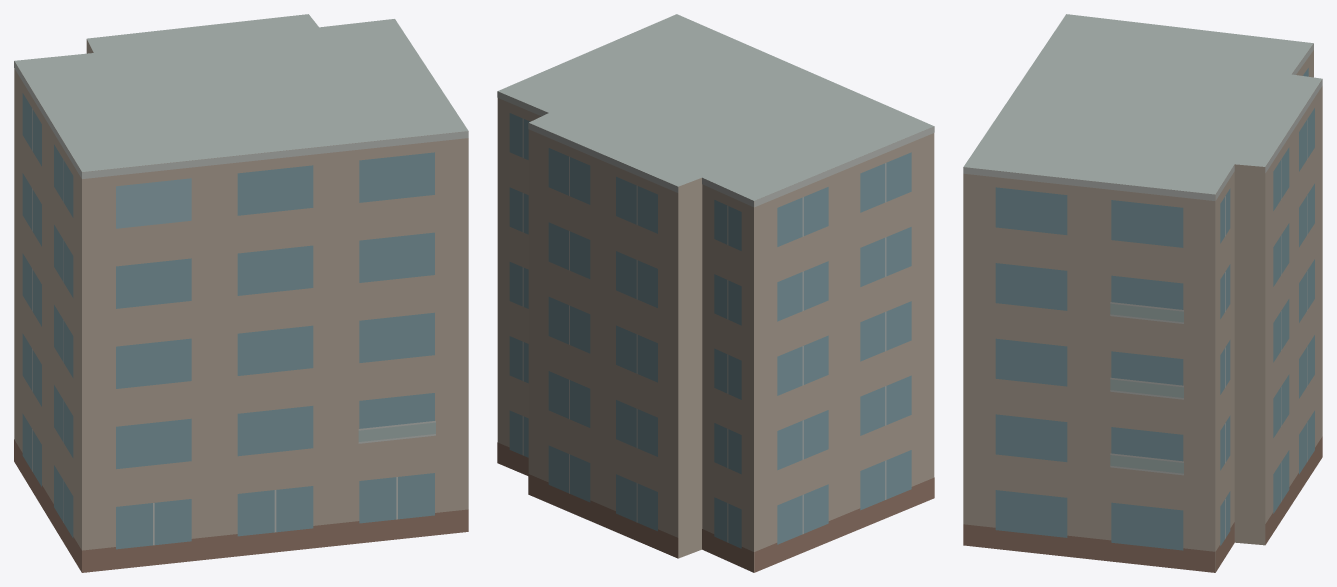
Rendered from survey-upis-32876168.glb.
The picture shows the model from 3 angles, left to right: view 1: azimuth 30°, elevation 25°; view 2: azimuth 150°, elevation 25°; view 3: azimuth 270°, elevation 25°; orthographic projection. The views are drawn at different scales.
Visible parts, largest first — view 1: survey-upis-32876168.tmp; view 2: survey-upis-32876168.tmp; view 3: survey-upis-32876168.tmp.
Part boxes in pixels (<box>): survey-upis-32876168.tmp: <box>14,14,468,572</box>; survey-upis-32876168.tmp: <box>497,14,934,572</box>; survey-upis-32876168.tmp: <box>963,14,1322,572</box>.
Bounding box in the file's own units: 14.23 × 13.9 × 11.97.
